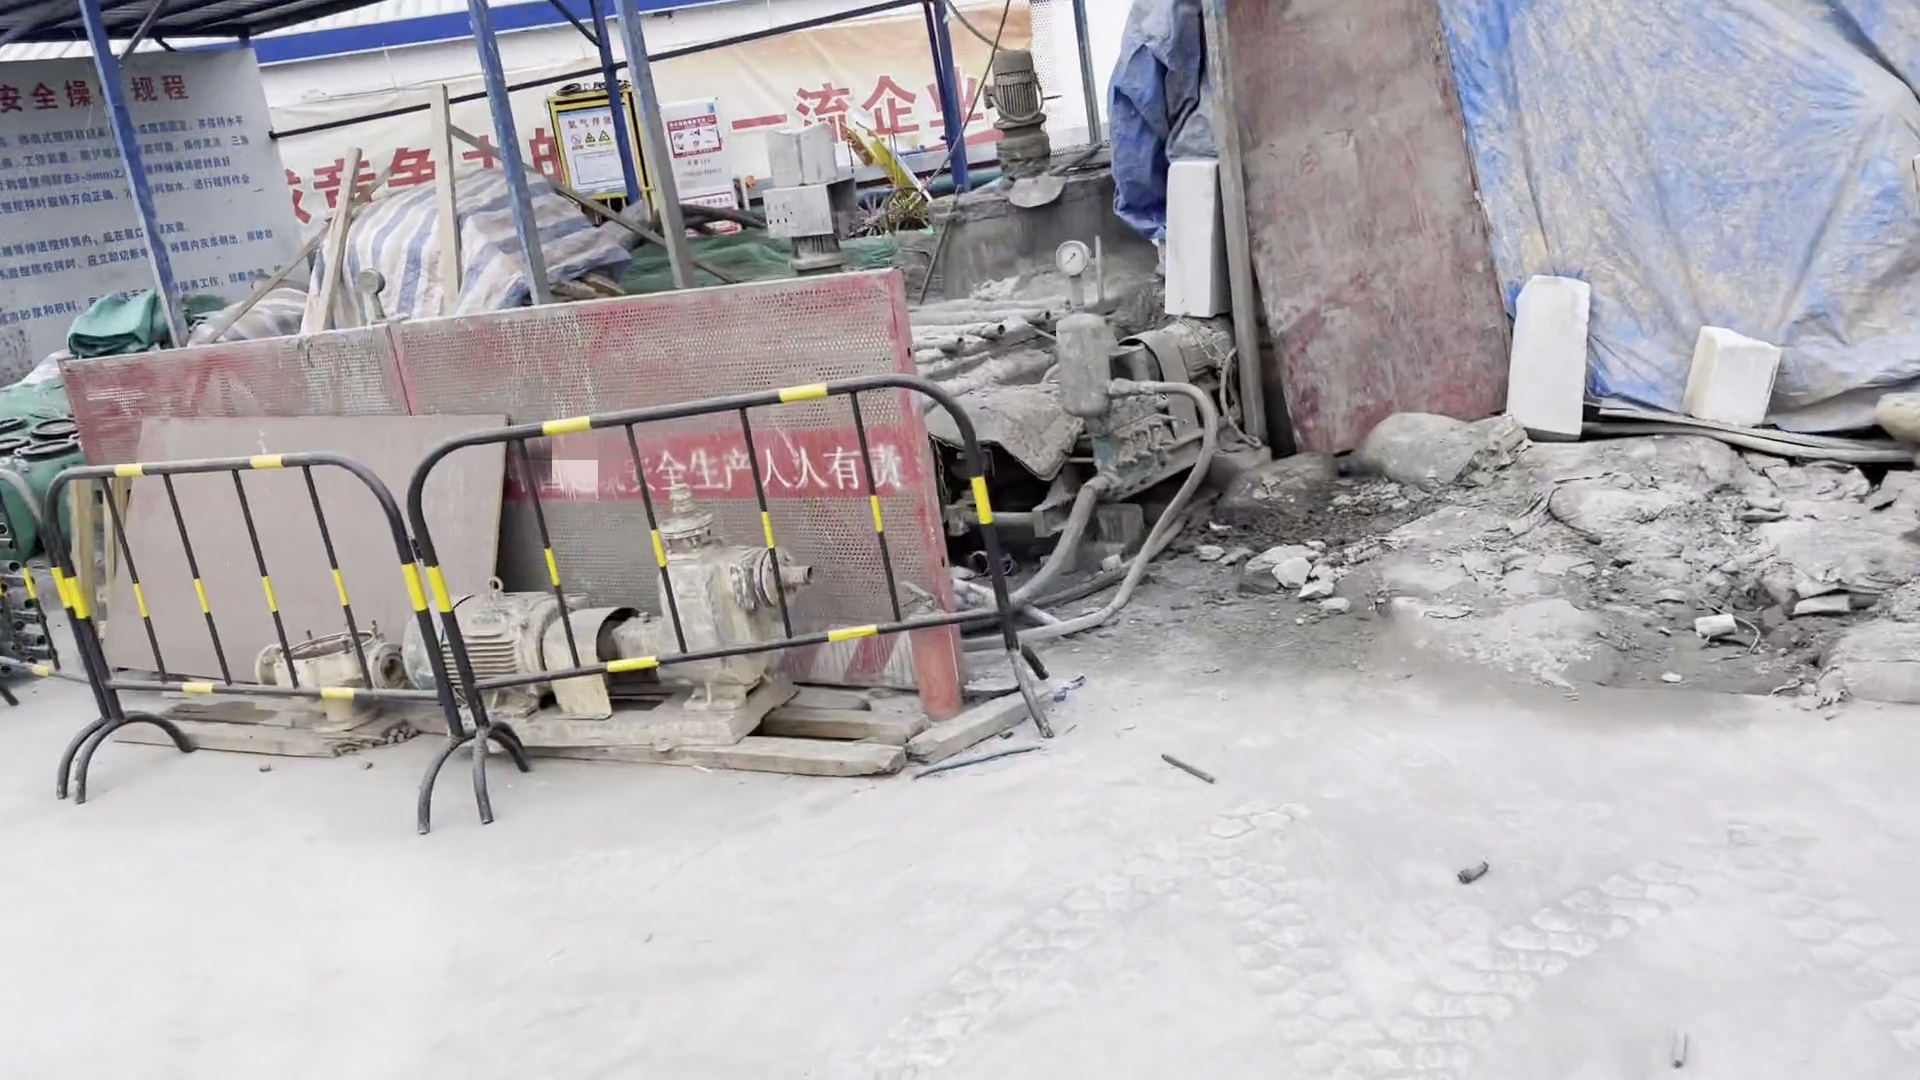slogan: (618, 438, 920, 495)
